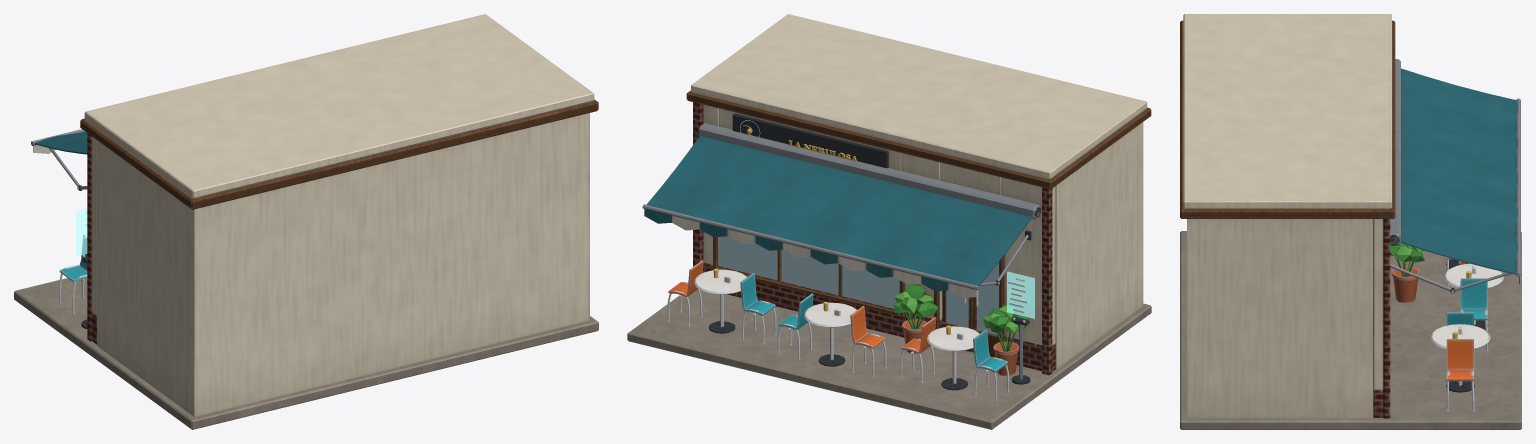
The model's file is restaurante.fbx.
The picture shows the model from 3 angles, left to right: view 1: azimuth 30°, elevation 25°; view 2: azimuth 150°, elevation 25°; view 3: azimuth 270°, elevation 25°; orthographic projection. The views are drawn at different scales.
Visible parts, largest first — view 1: restaurante, restaurante_toldo, restaurante_menu_neon; view 2: restaurante, restaurante_toldo, restaurante_cristal, restaurante_menu_neon, restaurante_puerta_der_cristal, restaurante_puerta_izq_cristal; view 3: restaurante, restaurante_toldo.
Boxes of the visible parts, bbox=[...] form: restaurante: bbox=[14, 14, 598, 429]; restaurante_toldo: bbox=[31, 129, 87, 190]; restaurante_menu_neon: bbox=[76, 208, 87, 256]; restaurante: bbox=[627, 14, 1151, 429]; restaurante_toldo: bbox=[642, 135, 1032, 297]; restaurante_cristal: bbox=[719, 236, 899, 308]; restaurante_menu_neon: bbox=[1007, 271, 1034, 318]; restaurante_puerta_der_cristal: bbox=[977, 262, 998, 334]; restaurante_puerta_izq_cristal: bbox=[946, 290, 968, 327]; restaurante: bbox=[1180, 14, 1521, 429]; restaurante_toldo: bbox=[1390, 68, 1520, 293].
Size of the model in its own units: 13.2 by 7.35 by 10.
Materials: 7 (1 with a texture image).
